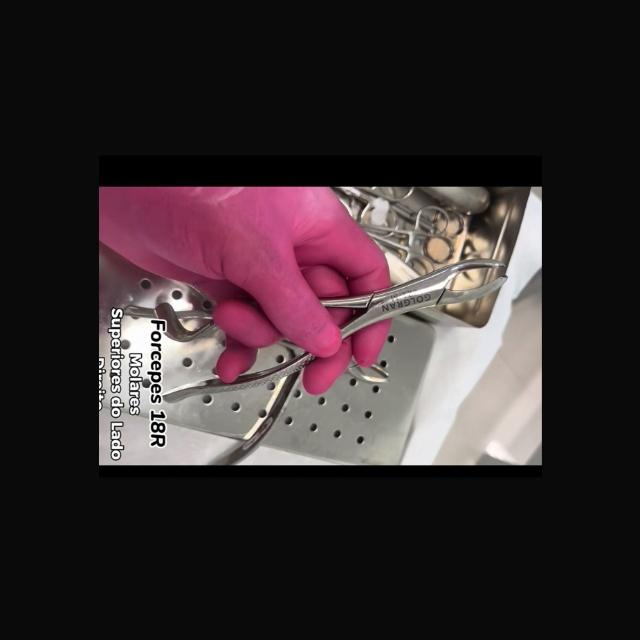forceps: (293, 260, 506, 395), (162, 368, 287, 404), (154, 288, 213, 342)
